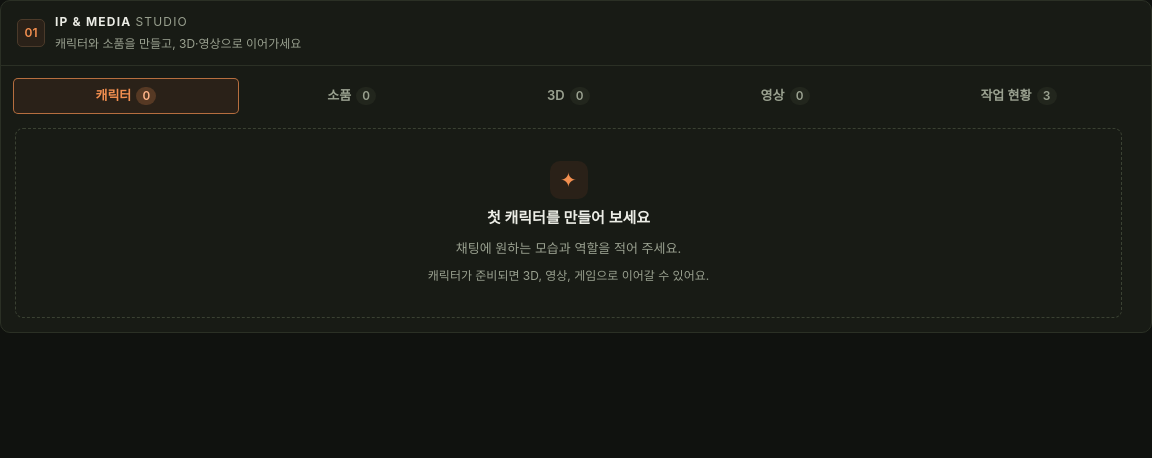
Scenario: 작업 현황 tab: in IP & MEDIA STUDIO, not in GAME STUDIO › sits after 영상 with the job count badge
This screenshot has width=1152, height=458.
Click the tab with id "ip-tab-pipeline".
click(1018, 96)  # box [898, 78, 1139, 114]
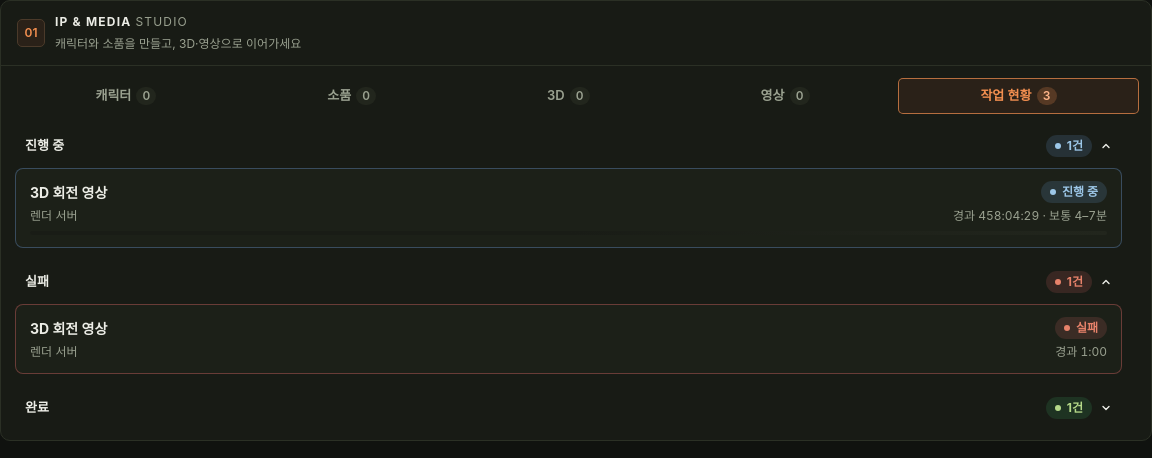
Expected: the number of list items with class "job" is 3
